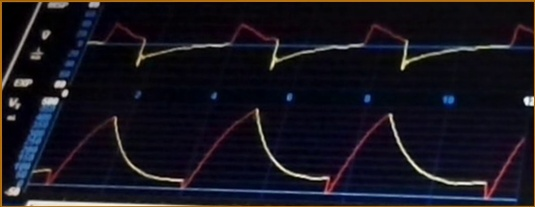Flow: (90, 13, 533, 75)
Leakage Volume: (31, 106, 523, 205)
